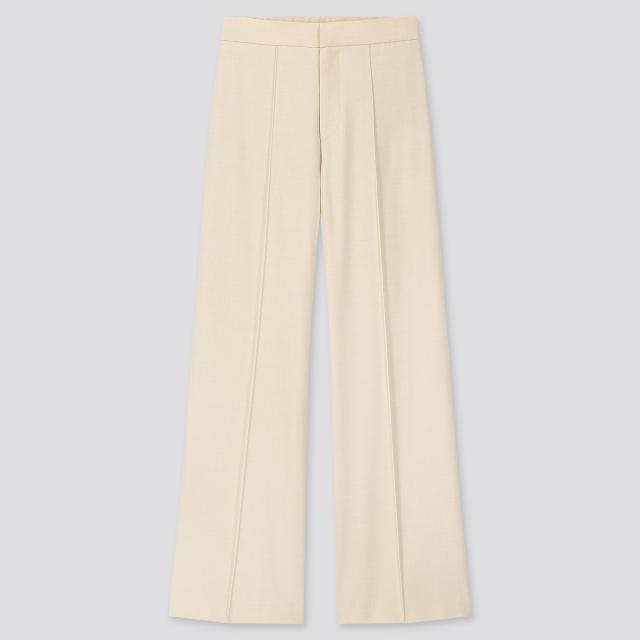long-pants: (167, 16, 475, 633)
